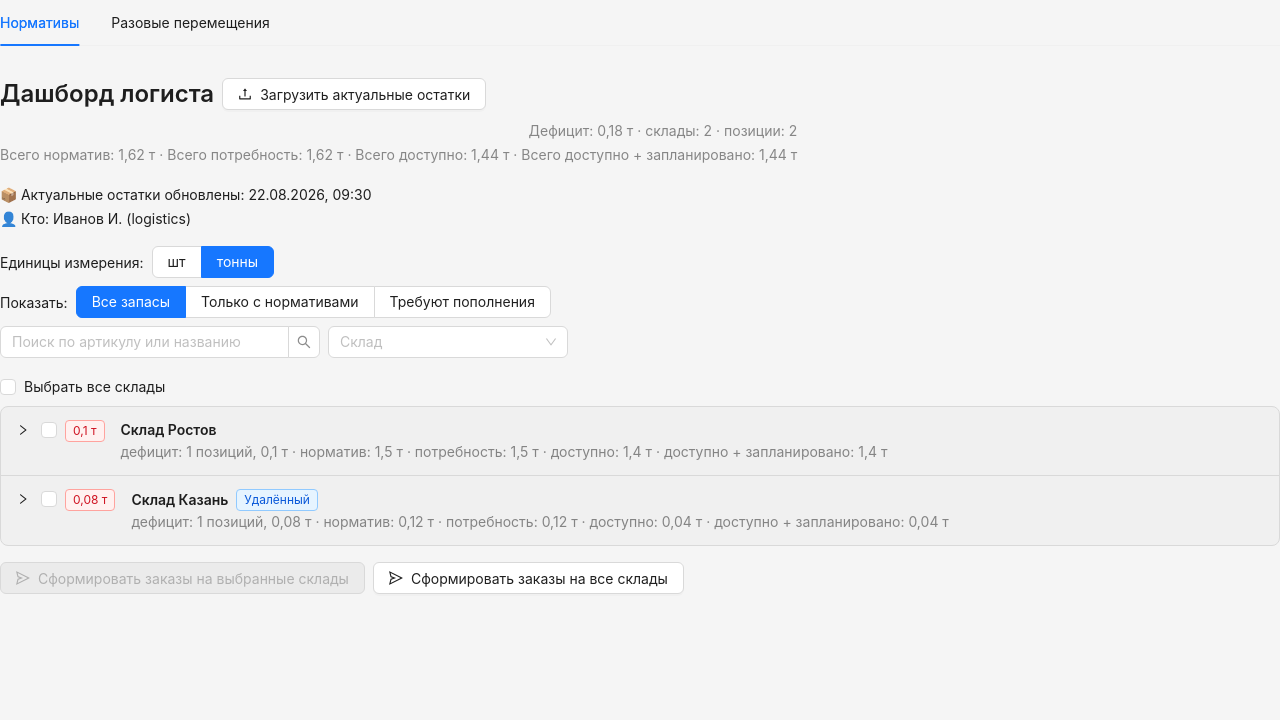
Test: LogisticsDashboardPage › opens generate orders modal
Check: the text "Склад Ростов" is shown, box [120,421,216,438]
Click the button "Сформировать заказы на все склады" at (528, 578), box [373,562,684,594]
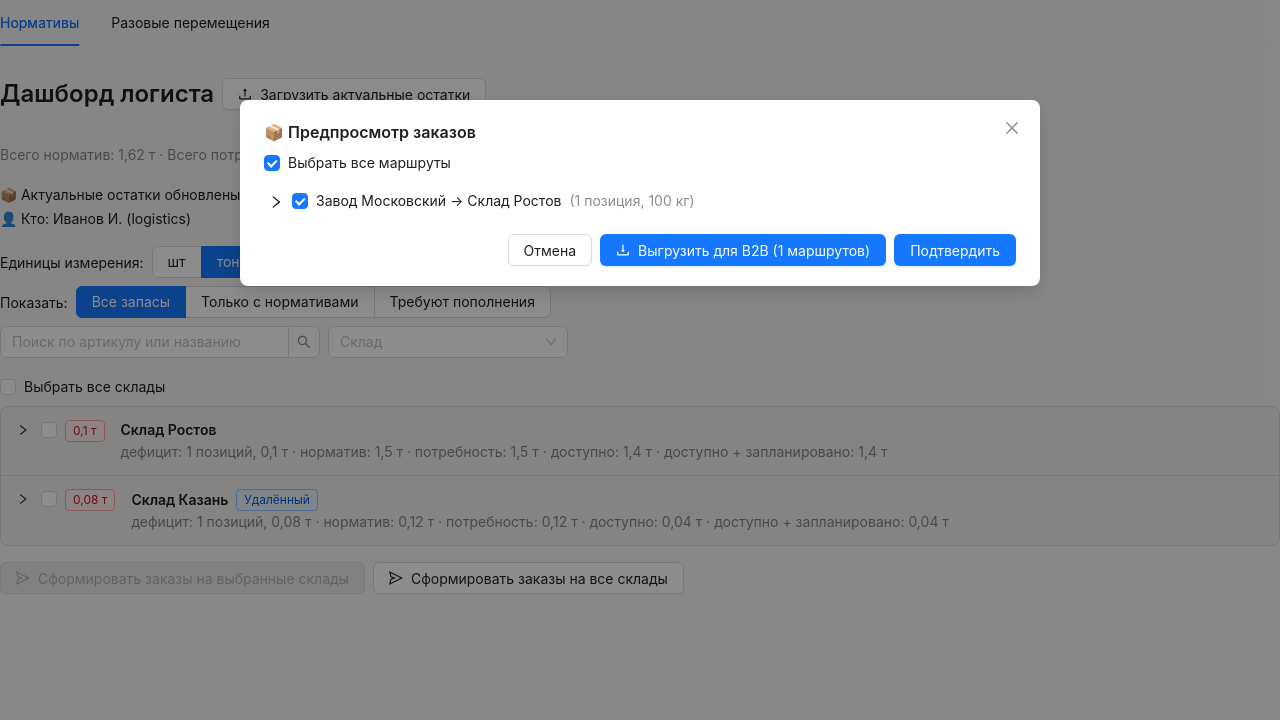
Check: the text "📦 Предпросмотр заказов" is shown, box [264,122,476,142]
Check: the text "Завод Московский → Склад Ростов(1 позиция, 100 кг)" is shown, box [308,190,702,212]
Check: the 1st checkbox labelled "Выбрать все маршруты" is shown, box [264,152,459,174]
